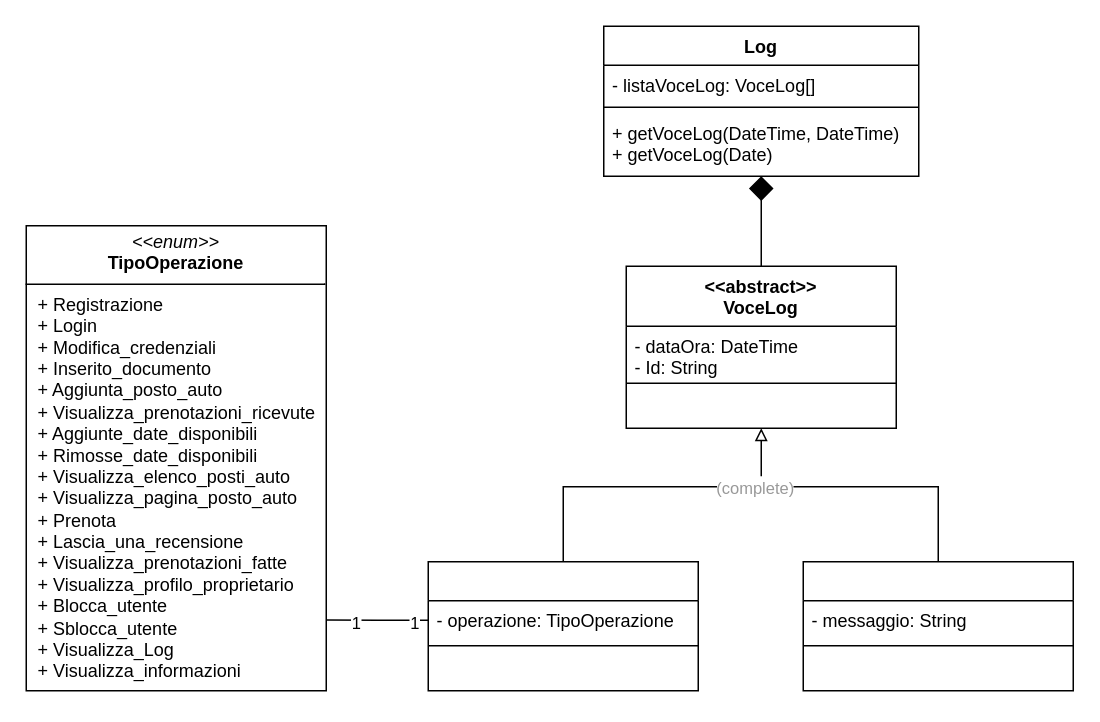
Some shapes in this 1100 by 722 pixel diagram are drawn without their labels. Each missing label, with the box of its shape:
MessaggioLog: (802, 560, 1073, 691)
OperazioneLog: (427, 560, 698, 691)
